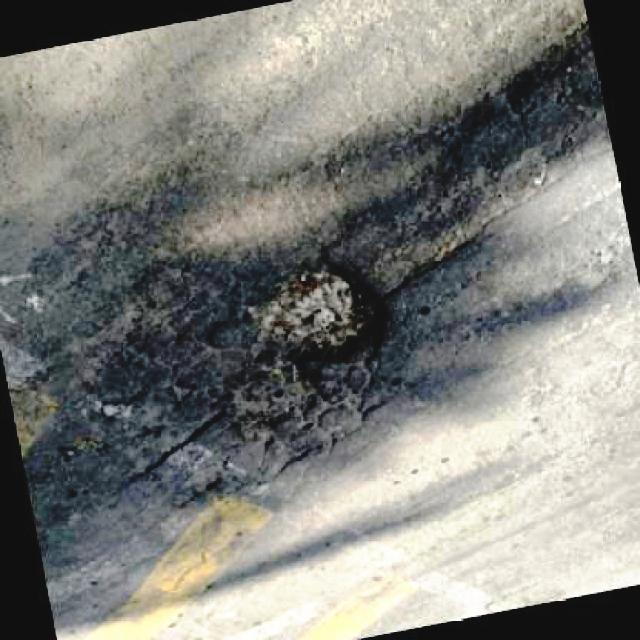pothole: (215, 255, 408, 440)
